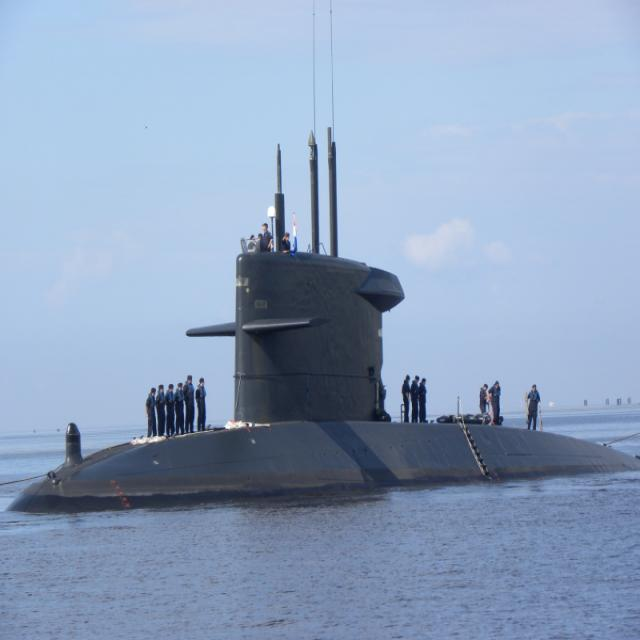submarine: (12, 112, 635, 516)
